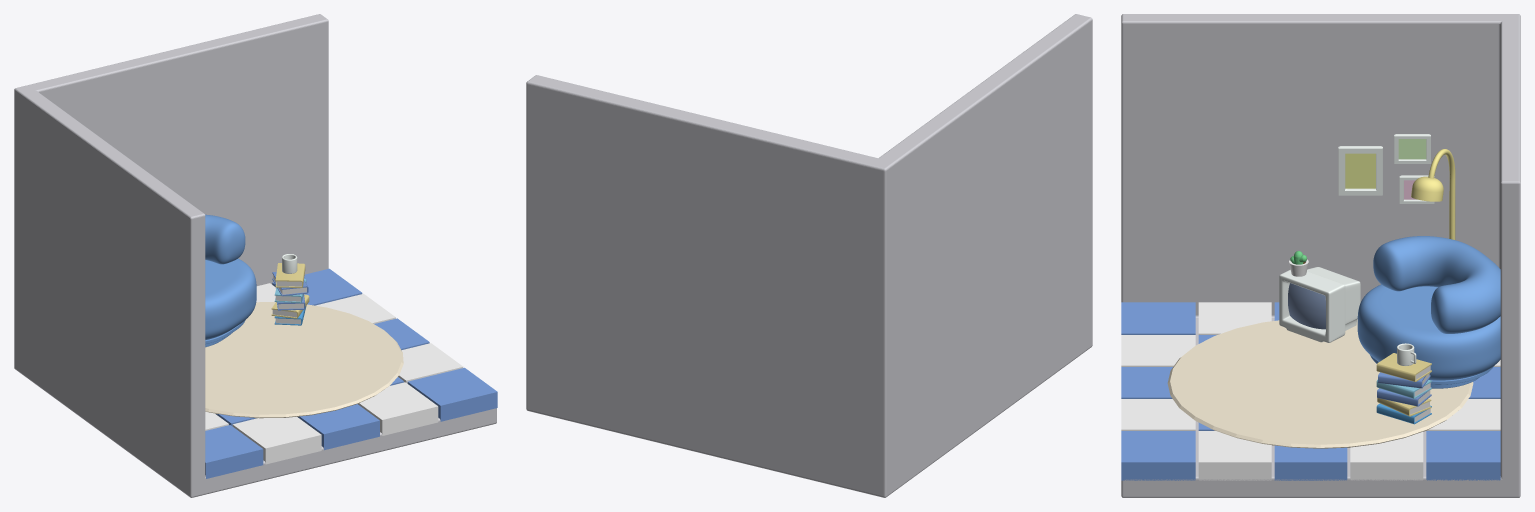
The model's file is marineRoom.glb.
3 renders of one model, left to right at view 1: azimuth 30°, elevation 25°; view 2: azimuth 150°, elevation 25°; view 3: azimuth 270°, elevation 25°, orthographic. The views are drawn at different scales.
Visible parts, largest first — view 1: Carpet 1; view 2: Carpet 1; view 3: Carpet 1.
Boxes of the visible parts, <box> form: Carpet 1: <box>14,14,497,497</box>; Carpet 1: <box>526,14,1092,497</box>; Carpet 1: <box>1121,14,1520,497</box>.
Bounding box in the file's own units: 4 × 3.5 × 4.
